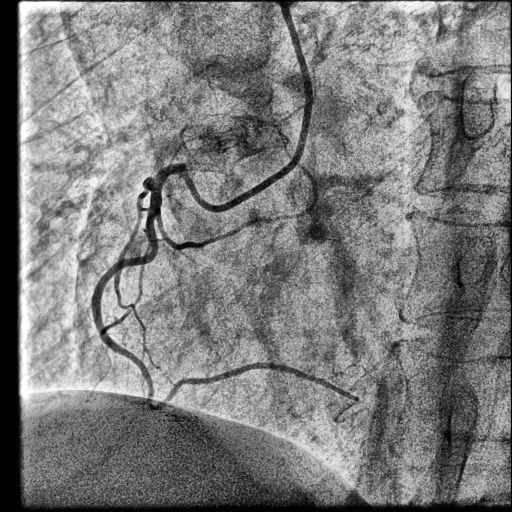rca: (92, 163, 358, 410)
